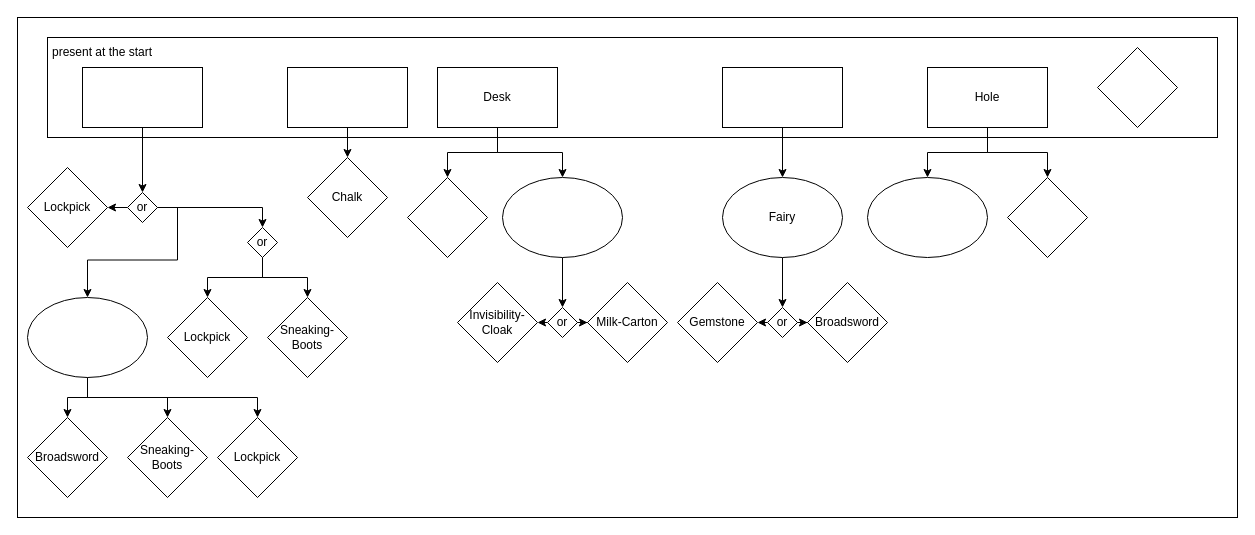
Image size: 1255x535. Some labels were removed from this diagram. The box of each missing label's shape, as (x1, y1, x2, y2) in pixels:
Blackboard: (286, 66, 408, 128)
Chest: (722, 66, 842, 128)
Cracked-Wall: (82, 66, 202, 128)
Dragon: (866, 176, 988, 258)
Kobold: (502, 176, 622, 258)
Paper: (406, 176, 488, 258)
Pickaxe: (1096, 46, 1178, 128)
Shopkeeper: (26, 296, 148, 378)
Trophy: (1006, 176, 1088, 258)
